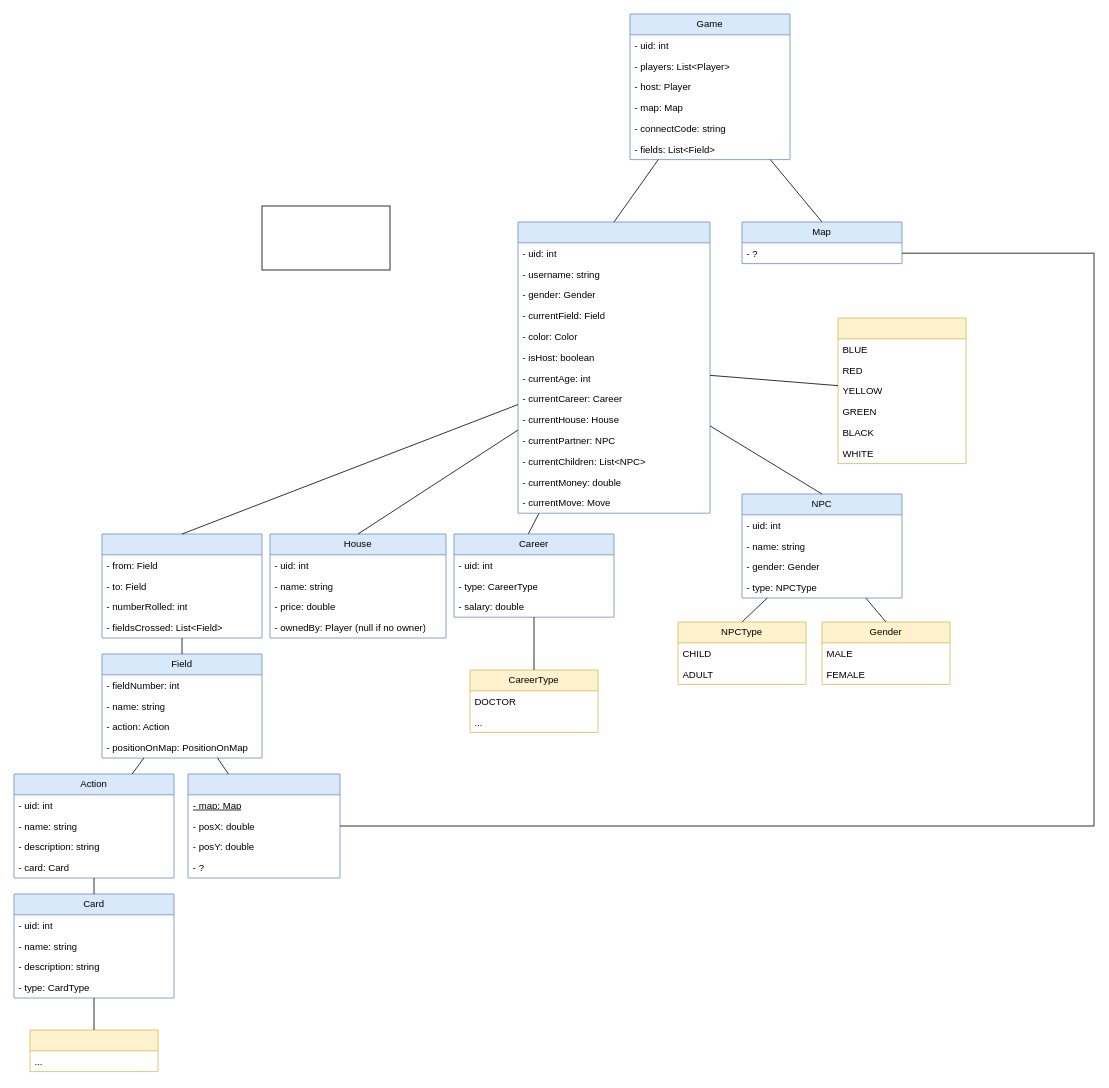
Image size: 1109x1088. Some labels were removed from this diagram. Here are the shapes that lost their labels. From the top down, the box of each, then its label:
(261, 205, 390, 270): Classes Enums
(517, 221, 710, 513): Player
(837, 317, 966, 464): Color
(101, 533, 262, 638): Move
(187, 773, 340, 878): PositionOnMap
(29, 1029, 158, 1072): CardType
